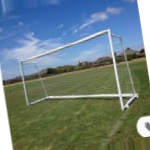goals: (16, 27, 139, 113)
